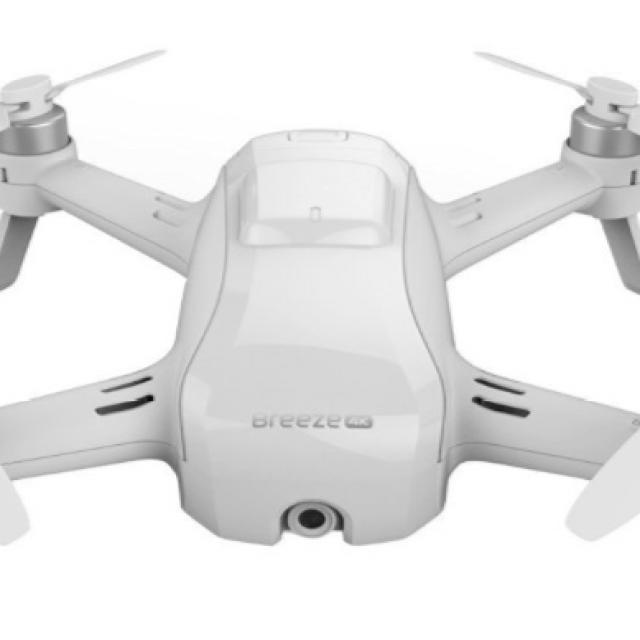drone: (0, 86, 640, 598)
